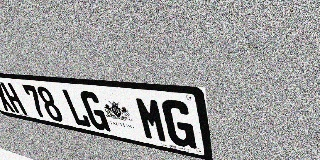7: (21, 84, 50, 120)
8: (34, 86, 65, 123)
G: (161, 99, 197, 149), (78, 90, 111, 132)
H: (0, 82, 28, 115)
L: (60, 89, 92, 128)
M: (134, 96, 169, 144)
X: (0, 81, 16, 113)
